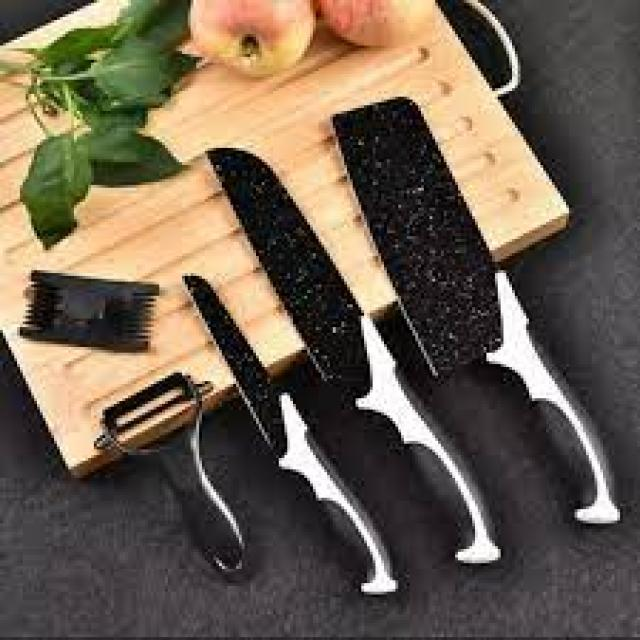Knife: (301, 72, 640, 558)
